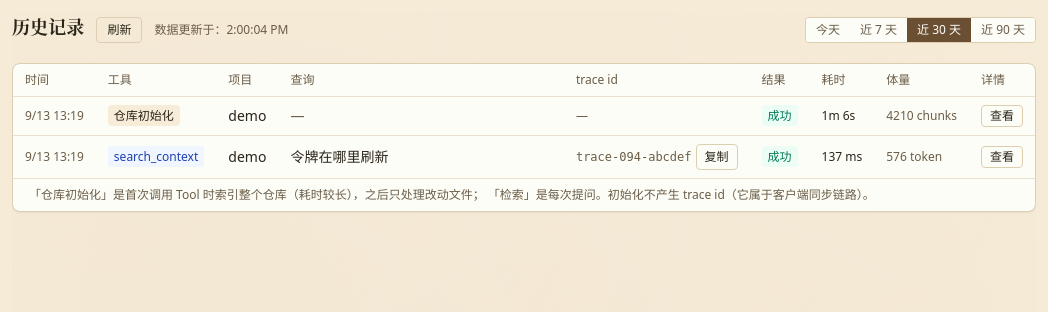
Scenario: §需求4 刷新（TASK-100 用户 2026-09-14 定稿） › 刷新失败时不清空已有数据（只显示错误横幅）
This screenshot has width=1048, height=312.
Expected: the table is shown, [13, 64, 1035, 178]
Click the button "刷新" at [119, 30], box [96, 17, 142, 43]
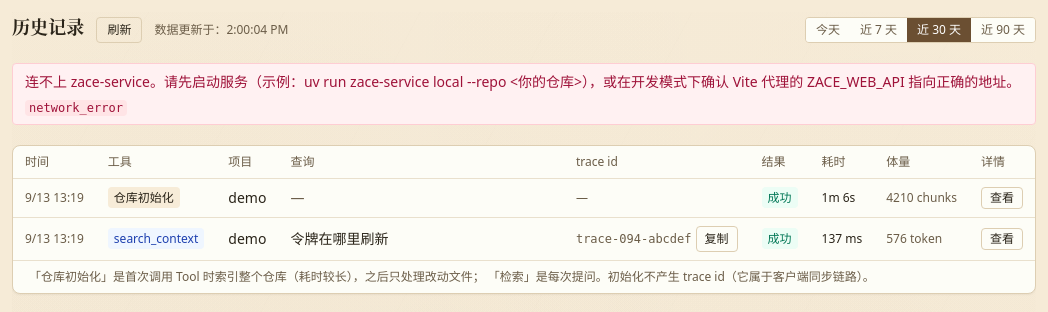
Expected: the table is shown, [13, 146, 1035, 260]
Expected: the text "连不上 zace-service" is shown, [25, 72, 1020, 91]
